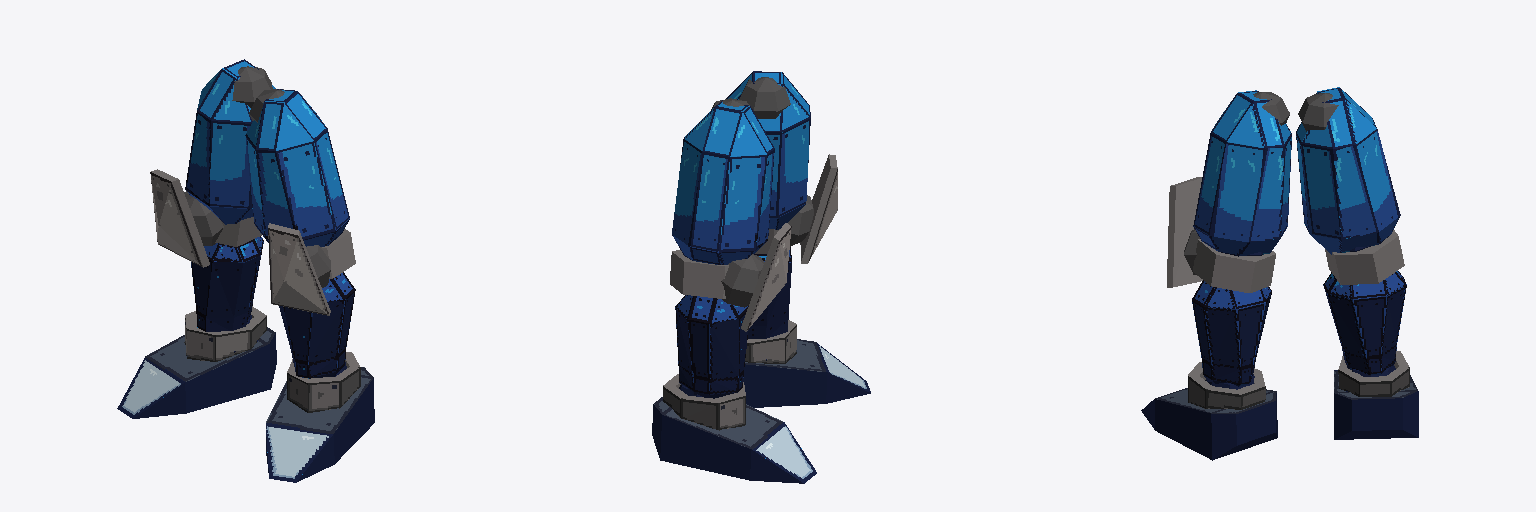
3 renders of one model, left to right at view 1: azimuth 30°, elevation 25°; view 2: azimuth 150°, elevation 25°; view 3: azimuth 270°, elevation 25°, orthographic.
Visible parts, largest first — view 1: UpperLegGuard, cuboid, HeavyLowerLegGuard, pyramid, tube, Brace, sphere, HipJoint; view 2: UpperLegGuard, cuboid, HeavyLowerLegGuard, pyramid, tube, sphere, Brace, HipJoint; view 3: UpperLegGuard, HeavyLowerLegGuard, cuboid, Brace, tube, pyramid, HipJoint.
Boxes of the visible parts, x1=… form: UpperLegGuard: x1=185, y1=59, x2=349, y2=246; cuboid: x1=117, y1=327, x2=374, y2=482; HeavyLowerLegGuard: x1=191, y1=236, x2=355, y2=378; pyramid: x1=150, y1=169, x2=330, y2=315; tube: x1=185, y1=306, x2=360, y2=412; Brace: x1=215, y1=217, x2=355, y2=278; sphere: x1=184, y1=191, x2=330, y2=287; HipJoint: x1=232, y1=66, x2=284, y2=122; UpperLegGuard: x1=672, y1=71, x2=810, y2=264; cuboid: x1=652, y1=339, x2=870, y2=483; HeavyLowerLegGuard: x1=675, y1=247, x2=791, y2=398; pyramid: x1=741, y1=154, x2=837, y2=331; tube: x1=663, y1=320, x2=796, y2=429; sphere: x1=721, y1=195, x2=813, y2=307; Brace: x1=670, y1=229, x2=779, y2=298; HipJoint: x1=711, y1=77, x2=790, y2=118; UpperLegGuard: x1=1193, y1=87, x2=1400, y2=256; HeavyLowerLegGuard: x1=1192, y1=271, x2=1406, y2=386; cuboid: x1=1141, y1=370, x2=1418, y2=460; Brace: x1=1193, y1=230, x2=1404, y2=292; tube: x1=1188, y1=351, x2=1409, y2=409; pyramid: x1=1167, y1=177, x2=1202, y2=287; HipJoint: x1=1253, y1=92, x2=1338, y2=131.
Bounding box in the file's own units: 0.7446 × 1.37 × 1.02.
Materials: 1 (1 with a texture image).